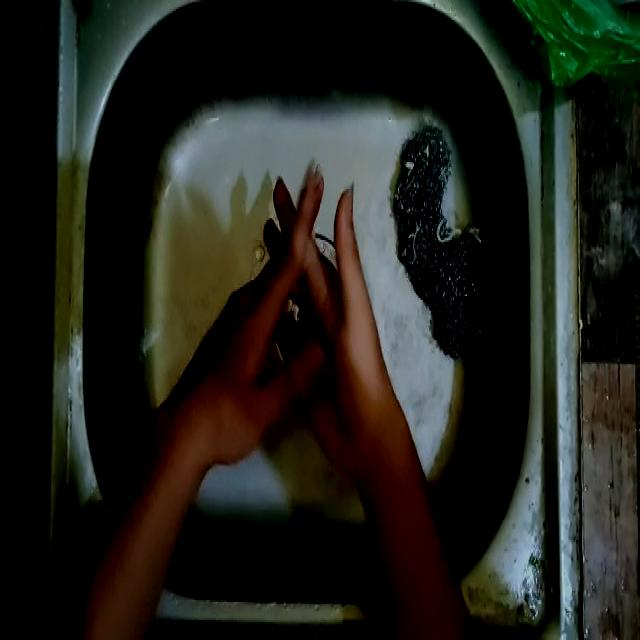step_3: (204, 150, 385, 448)
